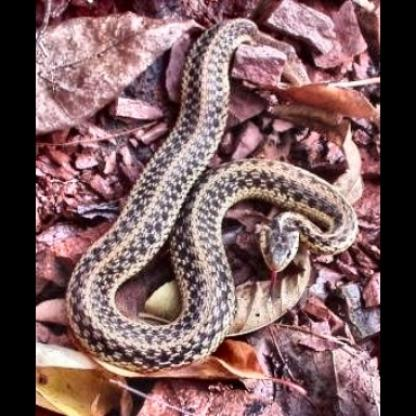Snake: (63, 15, 355, 377)
